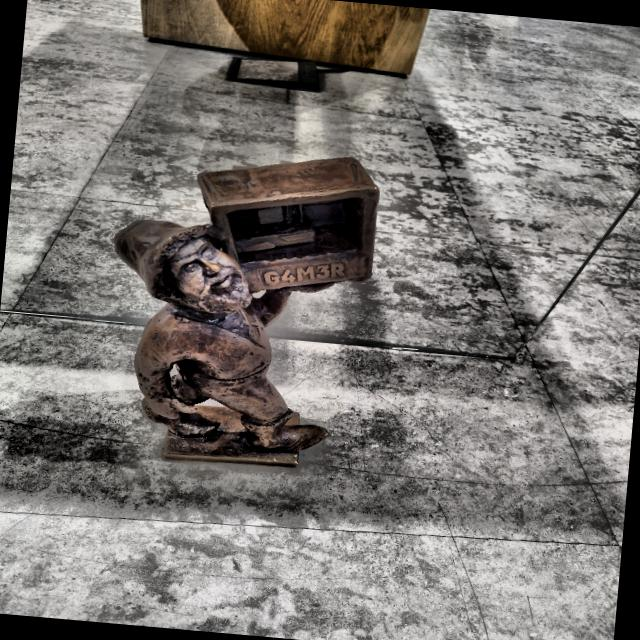GigaHercjusz: (114, 157, 378, 467)
